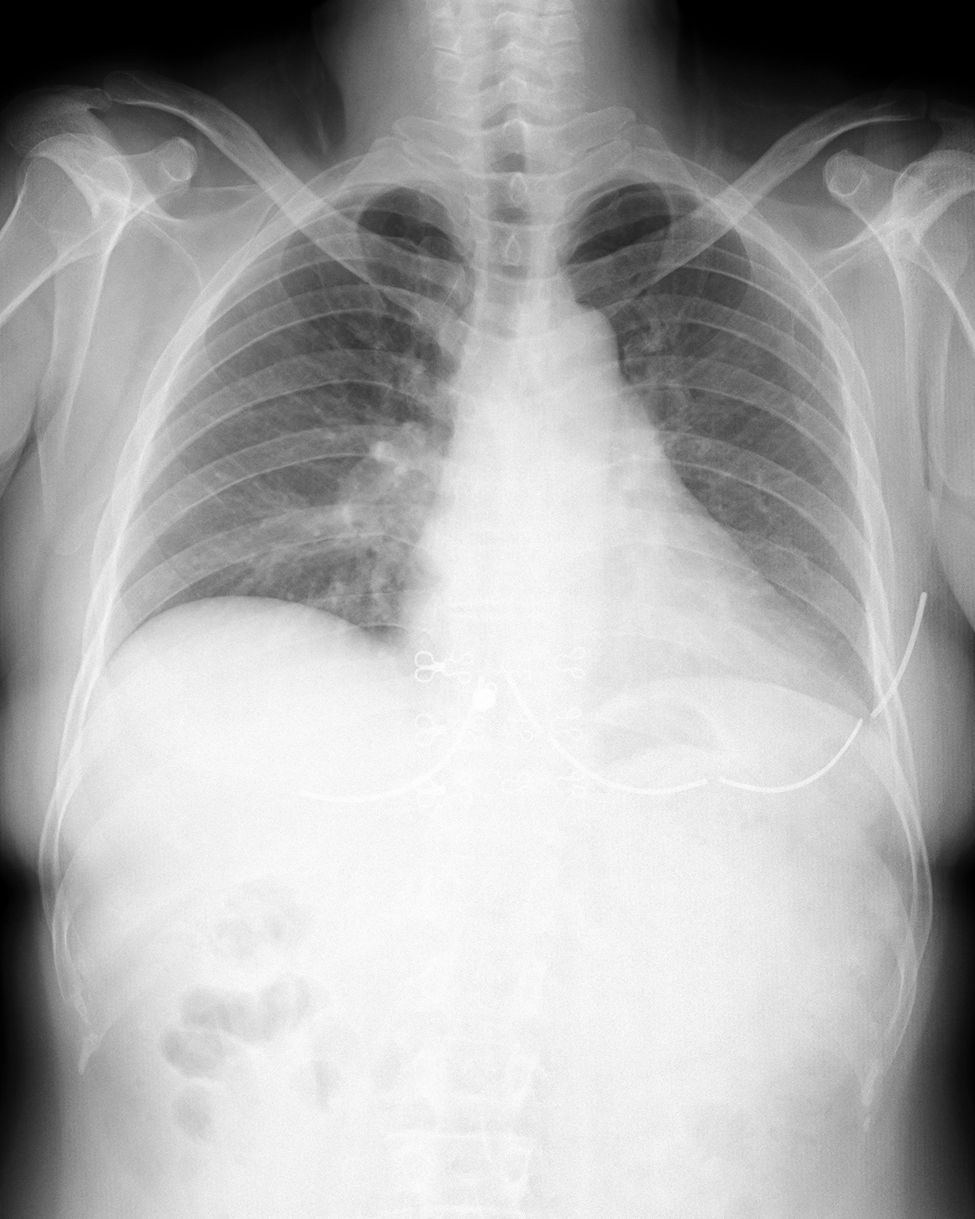Cardiomegaly: (392, 542, 854, 727)
